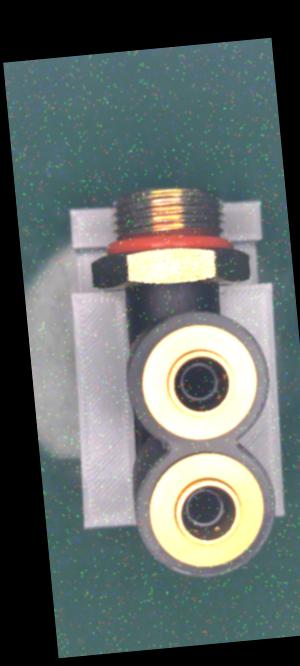joint line: (174, 296, 184, 317)
